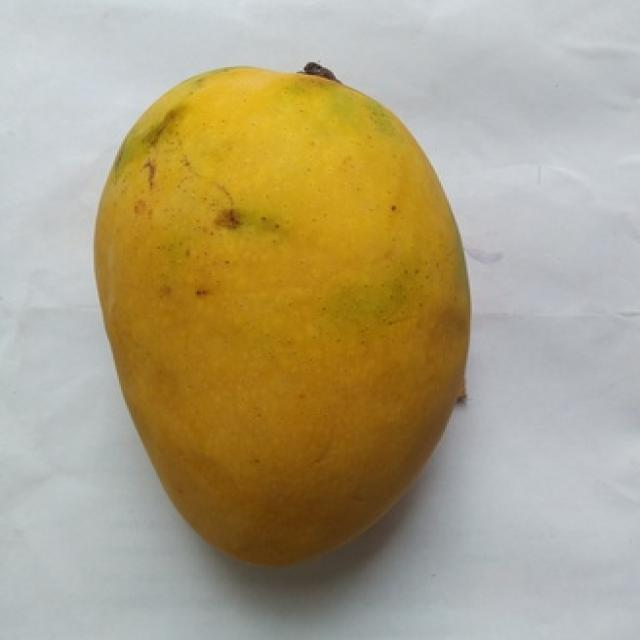Mango: (94, 69, 468, 562)
